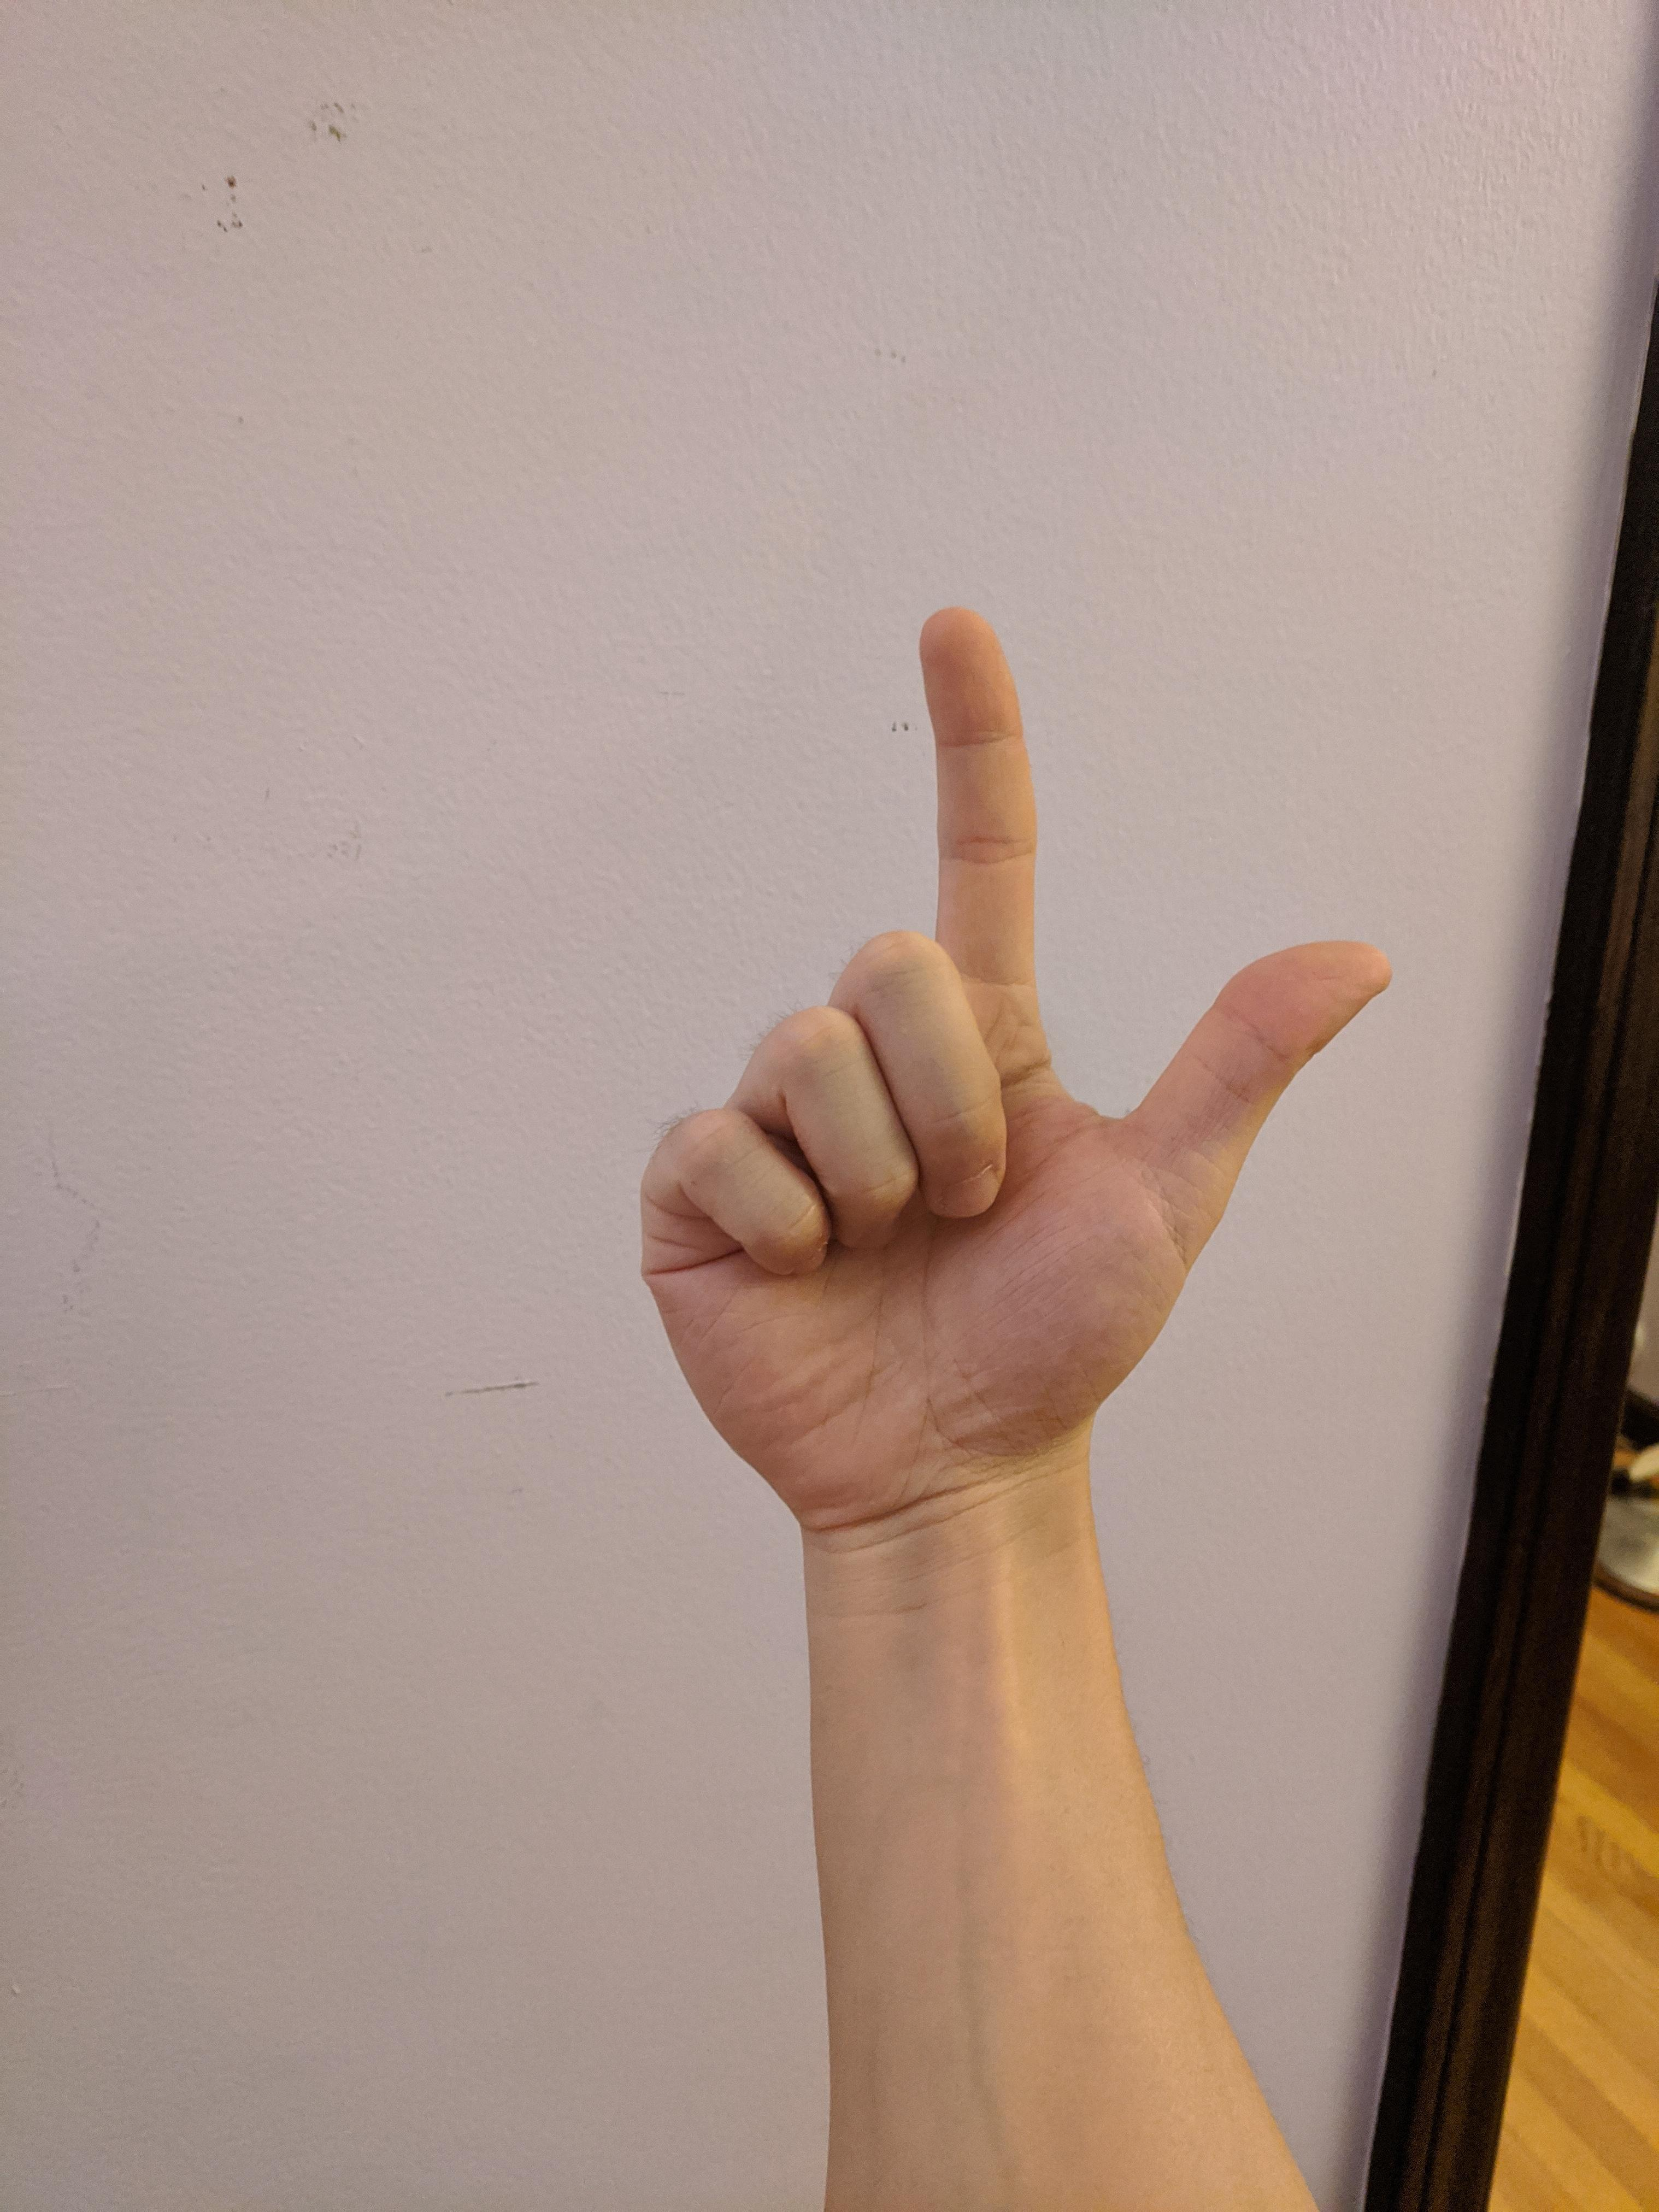L: (624, 590, 1410, 1548)
